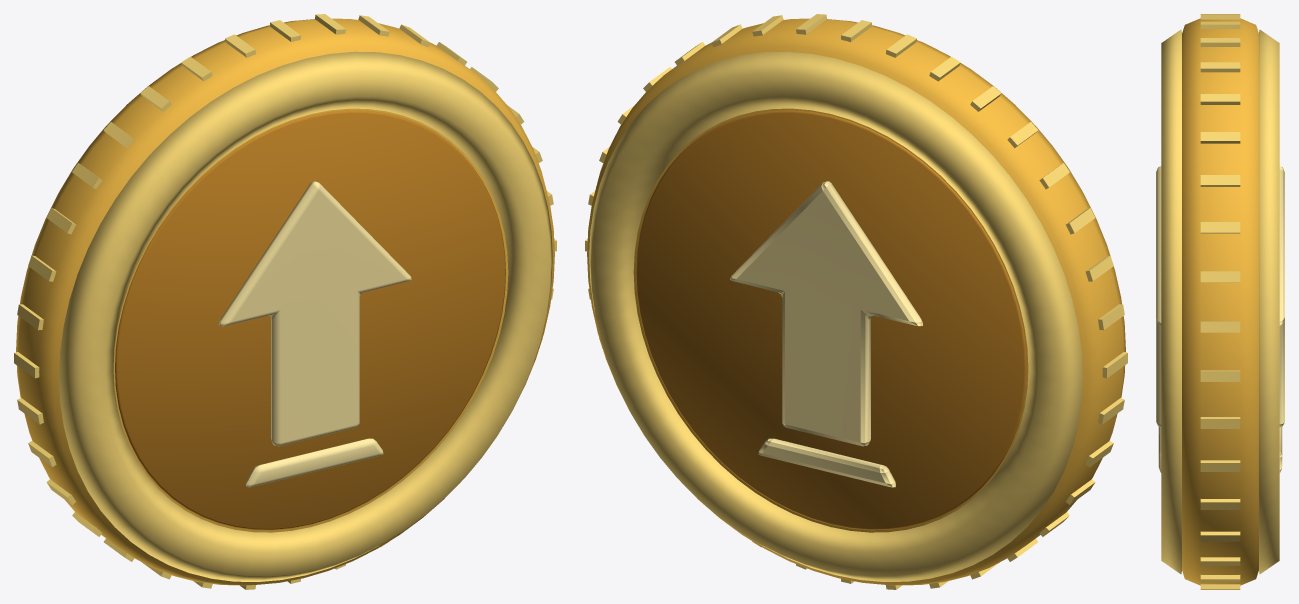
Rendered from coin.glb.
3 views of the same model, side by side, from view 1: azimuth 30°, elevation 25°; view 2: azimuth 150°, elevation 25°; view 3: azimuth 270°, elevation 25° (orthographic). The views are drawn at different scales.
Visible parts, largest first — view 1: ITEM_GoldCoin_Visual; view 2: ITEM_GoldCoin_Visual; view 3: ITEM_GoldCoin_Visual.
Boxes of the visible parts, x1=… form: ITEM_GoldCoin_Visual: x1=14, y1=14, x2=556, y2=589; ITEM_GoldCoin_Visual: x1=585, y1=14, x2=1127, y2=589; ITEM_GoldCoin_Visual: x1=1156, y1=14, x2=1284, y2=589.
Size of the model in its own units: 0.6639 by 0.6639 by 0.148.
